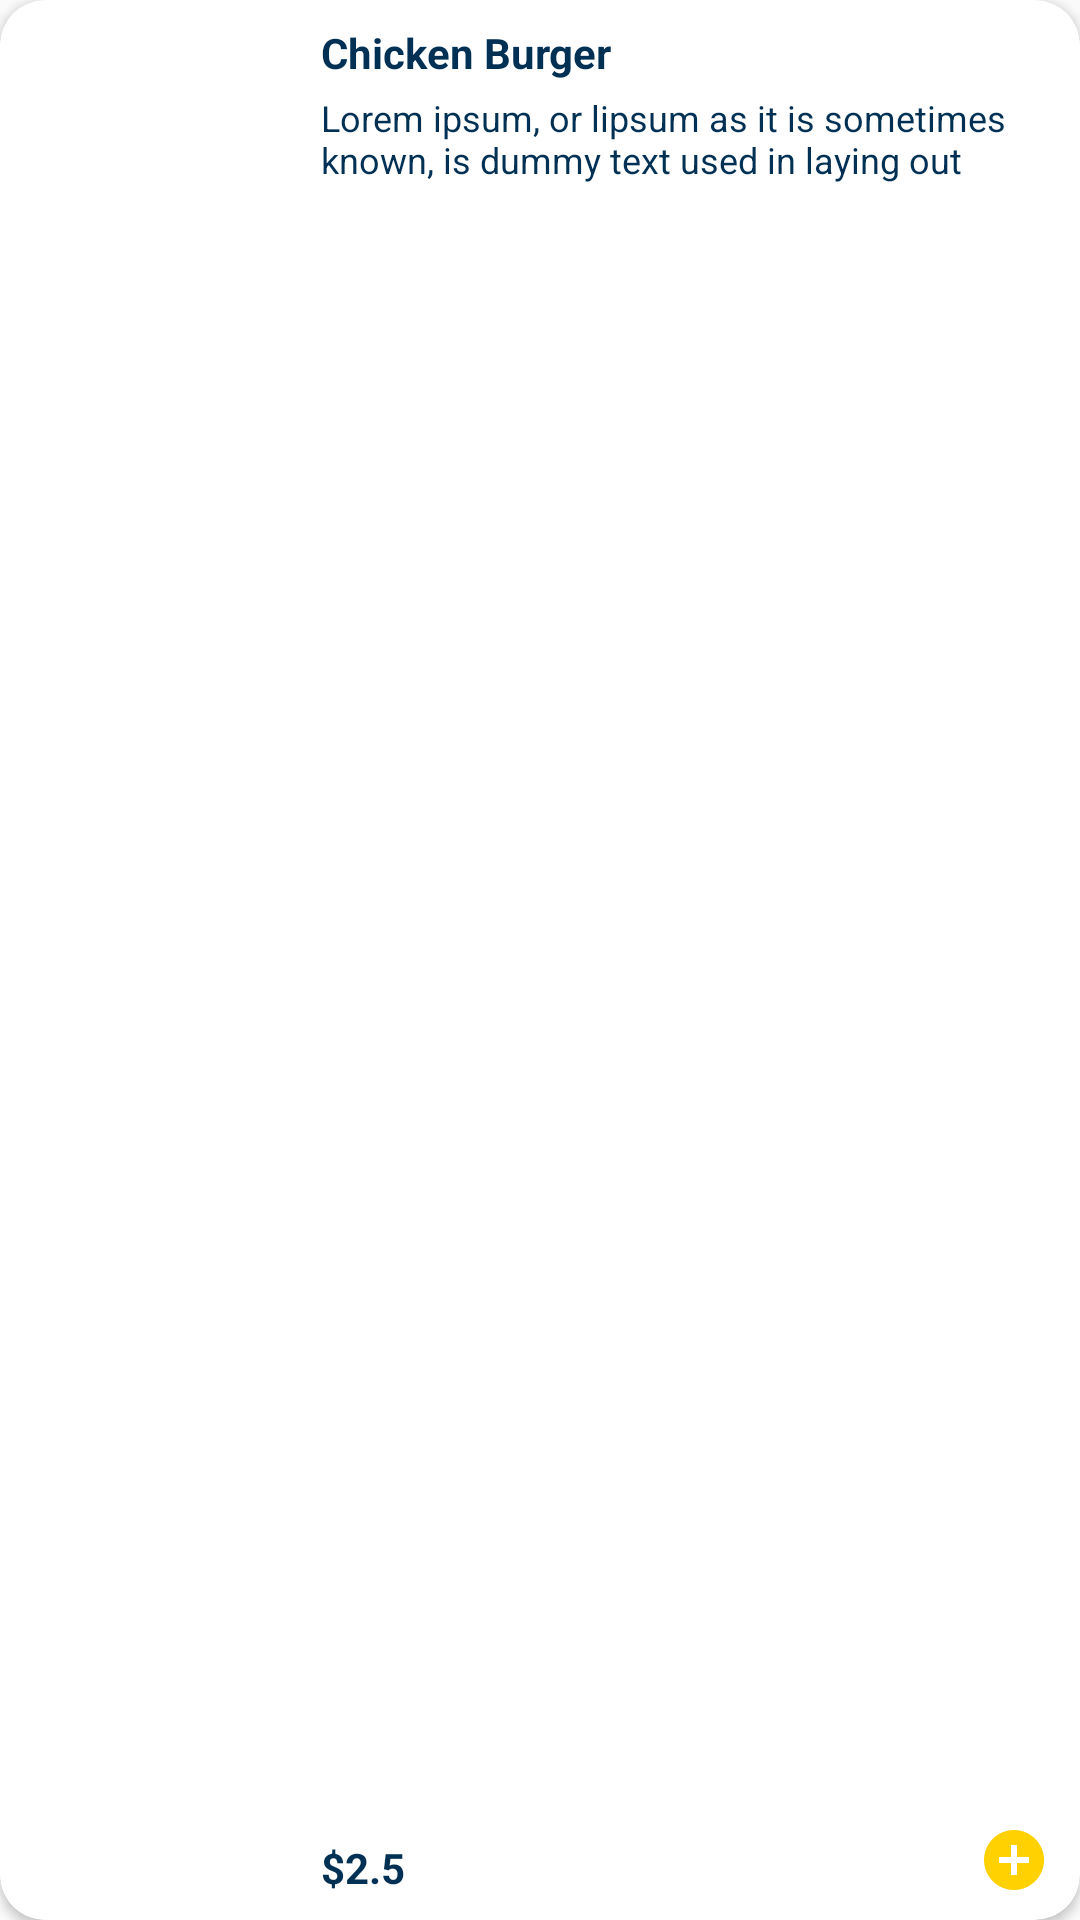

Screen size 1080x1920. Icon name, then its box in pixels as [x1,y1,x2,y2]:
add circle: [984,1830,1044,1890]
